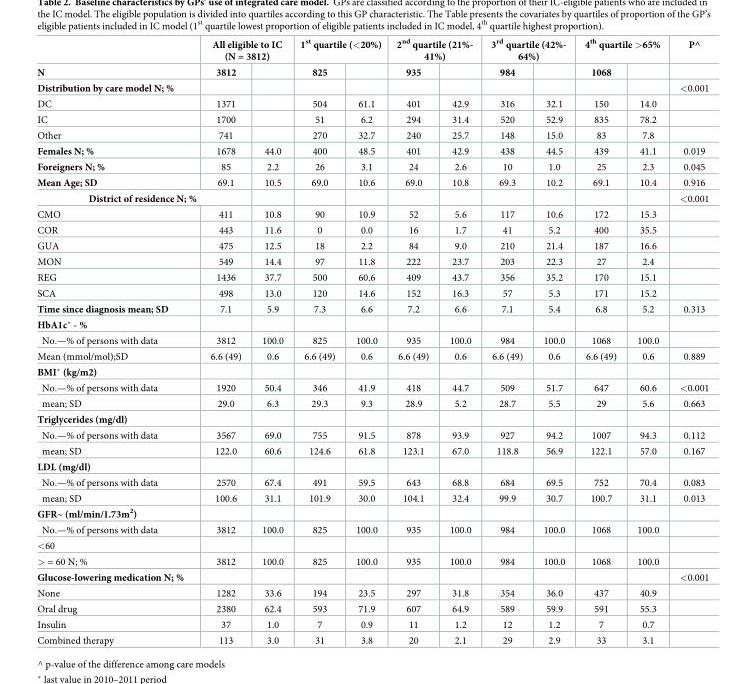table: (36, 37, 708, 645)
table column: (36, 37, 196, 645), (196, 37, 250, 645), (291, 37, 344, 645), (574, 37, 626, 645), (481, 37, 532, 645), (388, 37, 438, 645), (344, 37, 388, 645), (438, 37, 481, 645), (626, 37, 669, 645), (532, 37, 574, 645), (250, 37, 291, 645), (669, 37, 708, 645)
table column header: (36, 37, 708, 79)
table projected row header: (36, 315, 708, 332), (36, 363, 708, 380), (36, 411, 708, 427), (36, 458, 708, 474), (36, 505, 708, 521), (36, 537, 708, 553)
table row: (36, 37, 708, 64), (36, 315, 708, 332), (36, 363, 708, 380), (36, 79, 708, 95), (36, 95, 708, 111), (36, 111, 708, 127), (36, 127, 708, 143), (36, 158, 708, 174), (36, 174, 708, 190), (36, 190, 708, 206), (36, 206, 708, 222), (36, 237, 708, 253), (36, 253, 708, 269), (36, 269, 708, 285), (36, 332, 708, 348), (36, 395, 708, 411), (36, 411, 708, 427), (36, 427, 708, 443), (36, 458, 708, 474), (36, 474, 708, 490), (36, 505, 708, 521), (36, 521, 708, 537), (36, 537, 708, 553), (36, 553, 708, 569), (36, 569, 708, 585), (36, 600, 708, 616), (36, 616, 708, 632), (36, 64, 708, 79), (36, 143, 708, 158), (36, 222, 708, 237), (36, 285, 708, 300), (36, 300, 708, 315), (36, 348, 708, 363), (36, 380, 708, 395), (36, 443, 708, 458), (36, 490, 708, 505), (36, 585, 708, 600), (36, 632, 708, 645)
table spanning cell: (36, 37, 196, 79), (36, 190, 250, 206), (291, 37, 388, 64), (196, 37, 291, 64), (574, 37, 669, 64), (388, 37, 481, 64), (481, 37, 574, 64), (669, 37, 708, 79)
